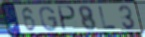3: (118, 5, 135, 31)
6: (21, 6, 38, 32)
8: (78, 4, 98, 32)
G: (38, 6, 59, 32)
L: (98, 6, 118, 31)
P: (57, 5, 77, 33)
